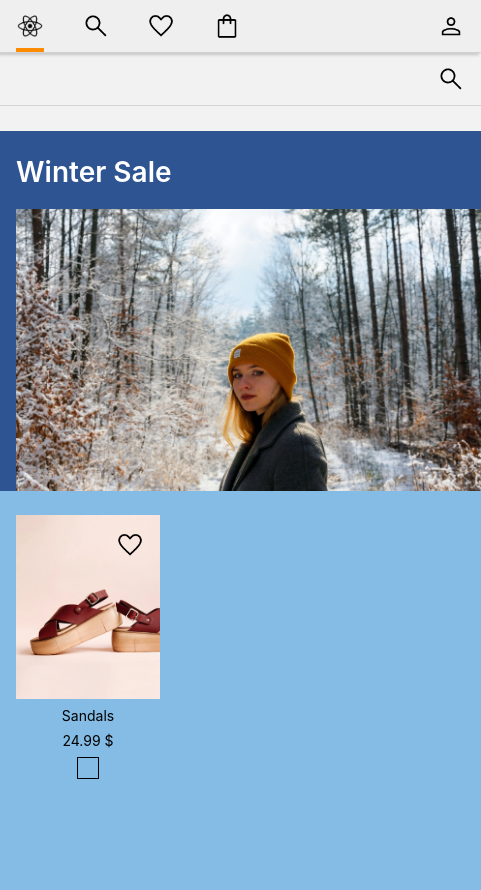
Test: Filter products › should show zero search on invalid search term
This screenshot has width=481, height=890.
Type "abcdefghijklmopqrstuvwxyz" into the field. click: (218, 79)
box: [16,53,420,105]
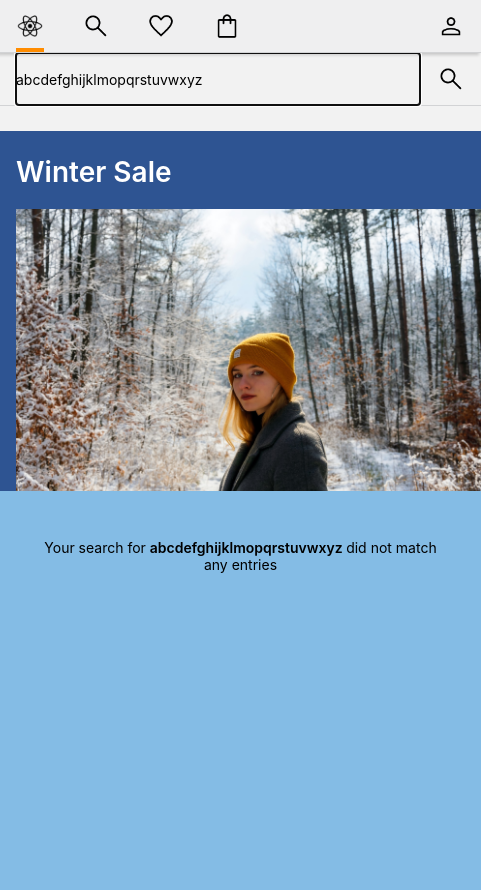
Expected: the text "did not match any entries" is shown, [204,539,441,573]
